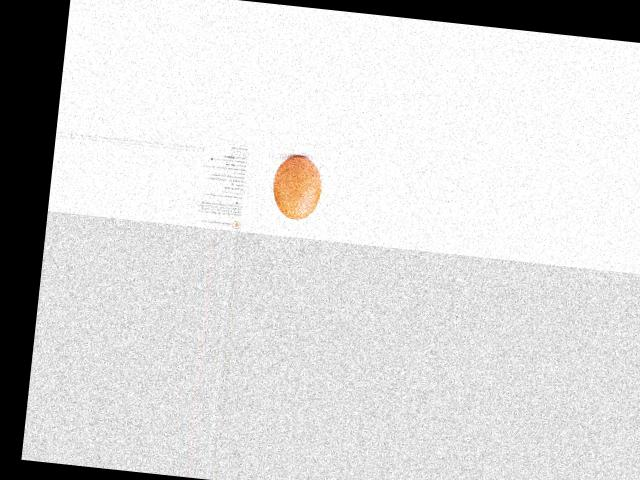egg: (269, 153, 324, 221)
